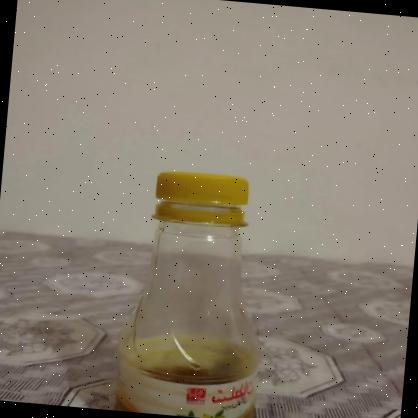bottle: (104, 152, 285, 418)
cap: (148, 164, 258, 236)
label: (112, 361, 263, 418)
